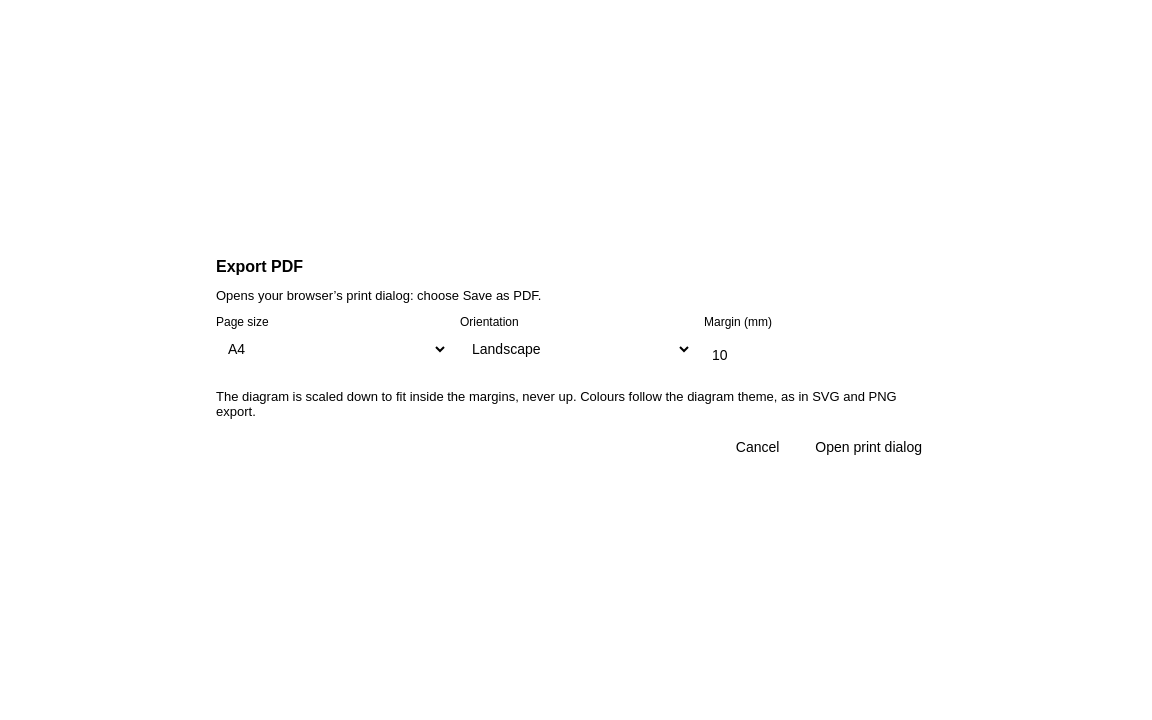
Test: ExportPdfDialog › refuses a margin outside 0 to 50 mm before printing, too
Replace the text in the number field labelled "Margin (mm)" with "80". click: (820, 354)
box: [704, 332, 936, 376]
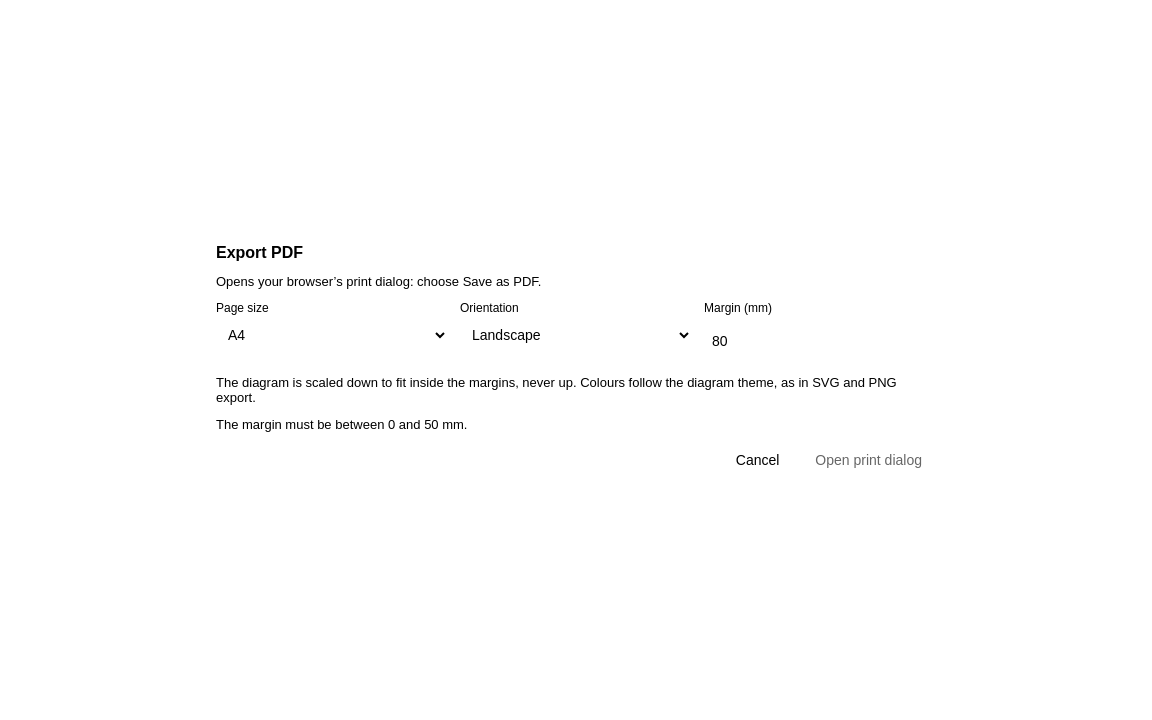
Now the button "Open print dialog" is disabled, box [801, 444, 936, 476]
